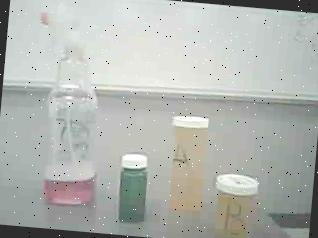Bottle A: (163, 113, 214, 223)
Bottle B: (208, 168, 257, 238)
Bottle C: (114, 148, 156, 228)
hazard: (22, 9, 112, 213)
